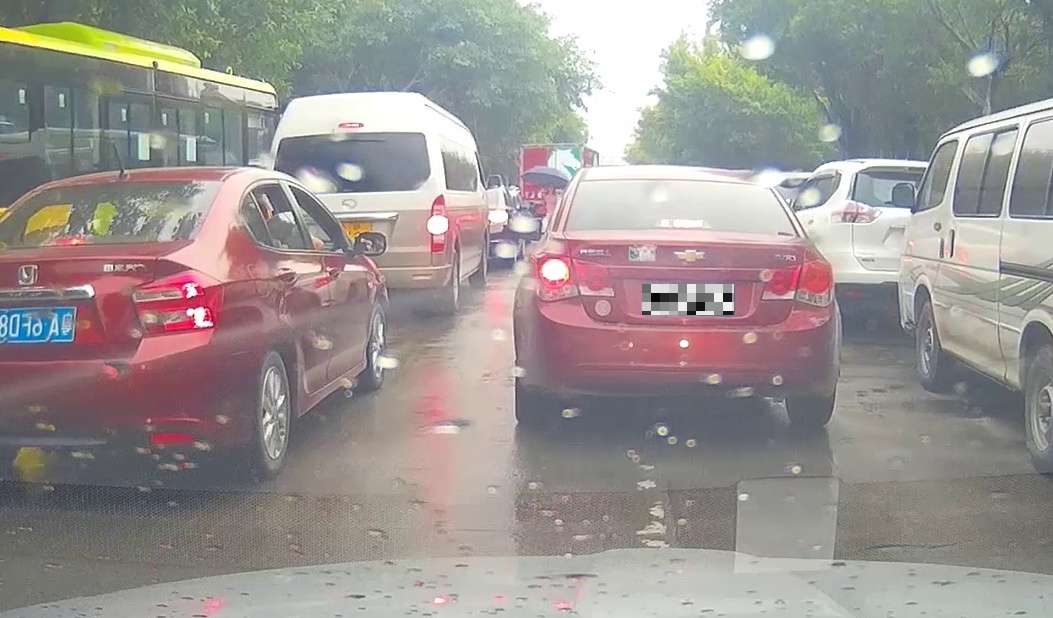L_light: (532, 252, 615, 302)
R_light: (759, 259, 835, 306)
T_light: (659, 218, 705, 229)
day-left: (512, 164, 842, 425)
plate_1: (642, 284, 734, 315)
